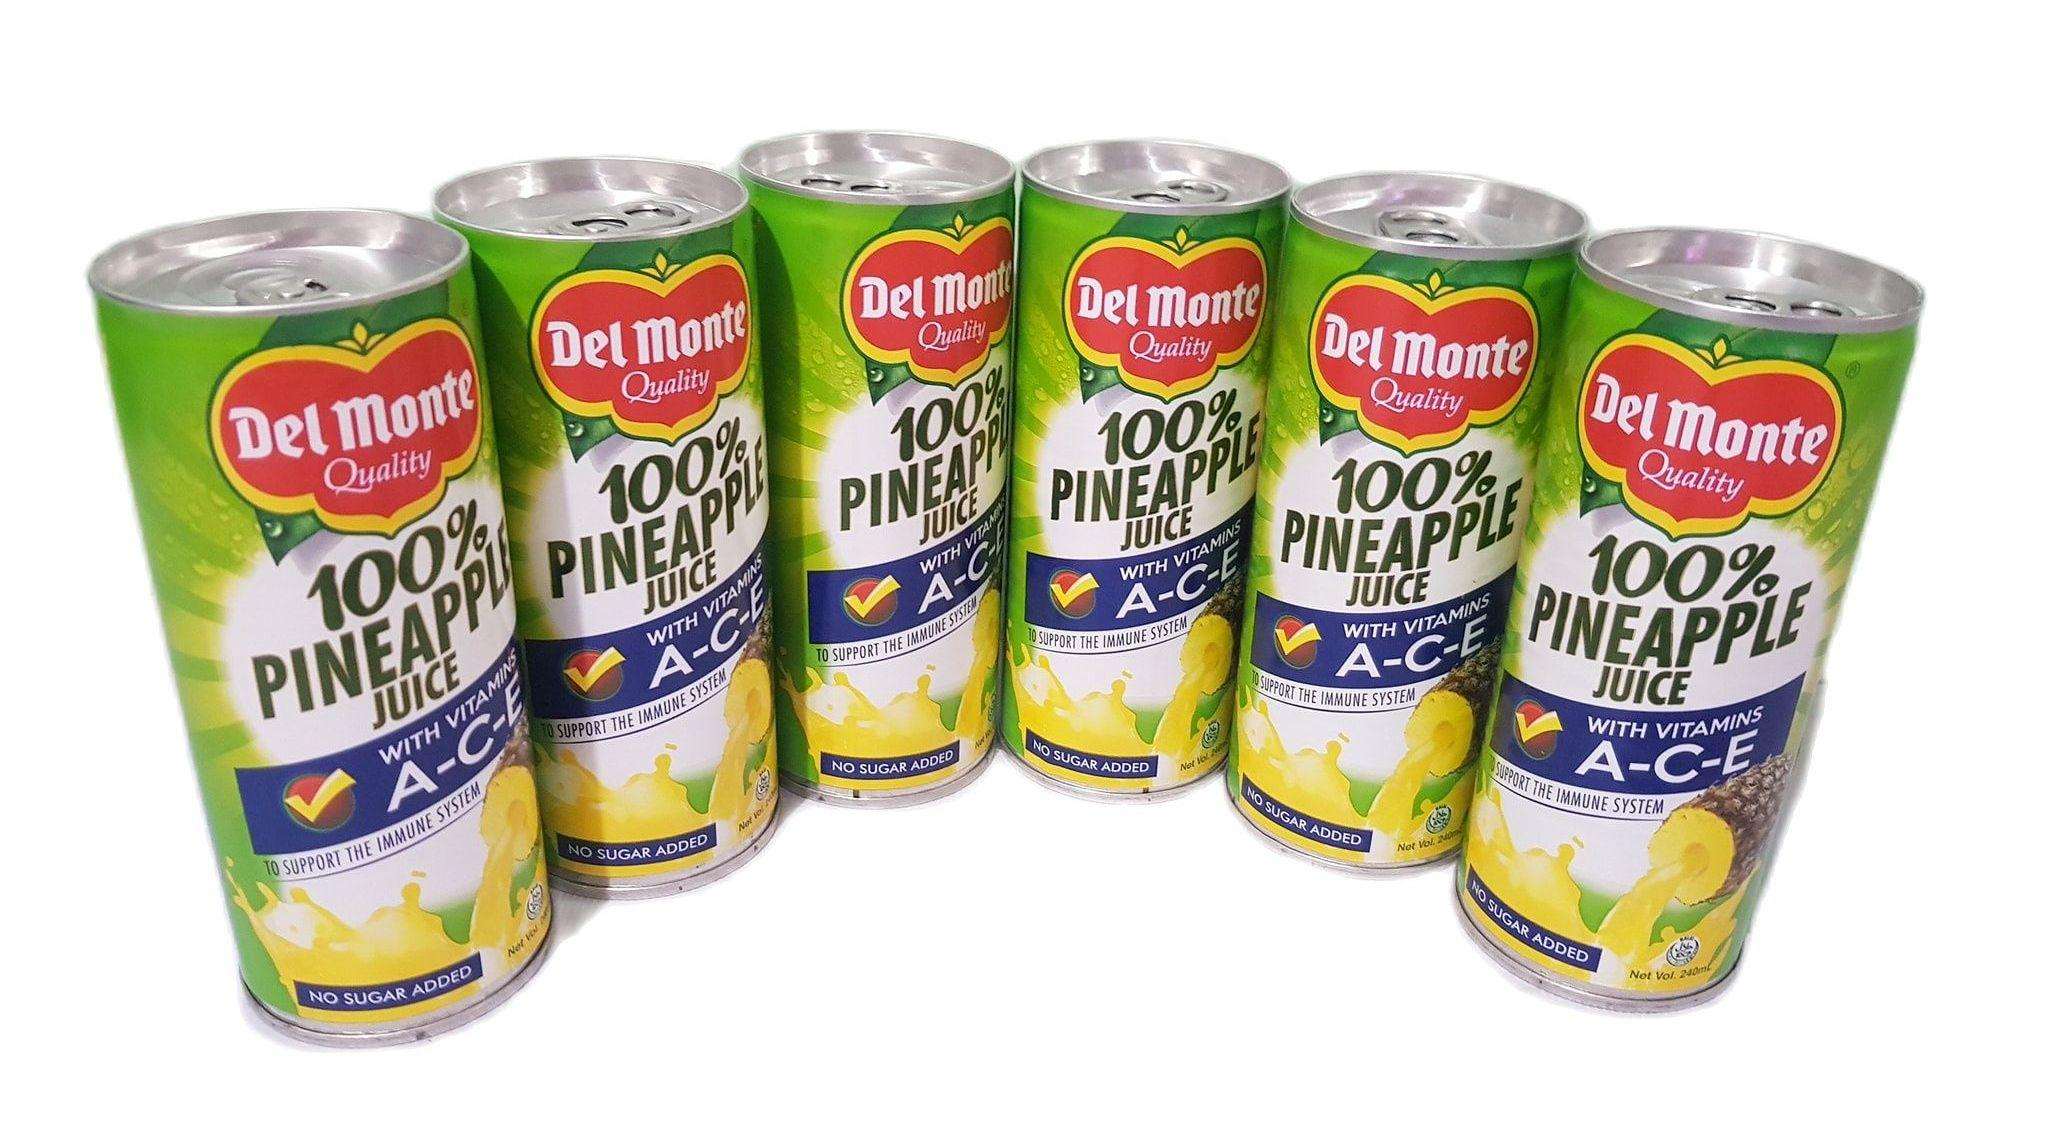can: (89, 207, 550, 1041), (1458, 225, 1924, 1003), (433, 156, 777, 898), (1227, 170, 1588, 871), (1003, 140, 1290, 799), (738, 130, 1014, 805)
